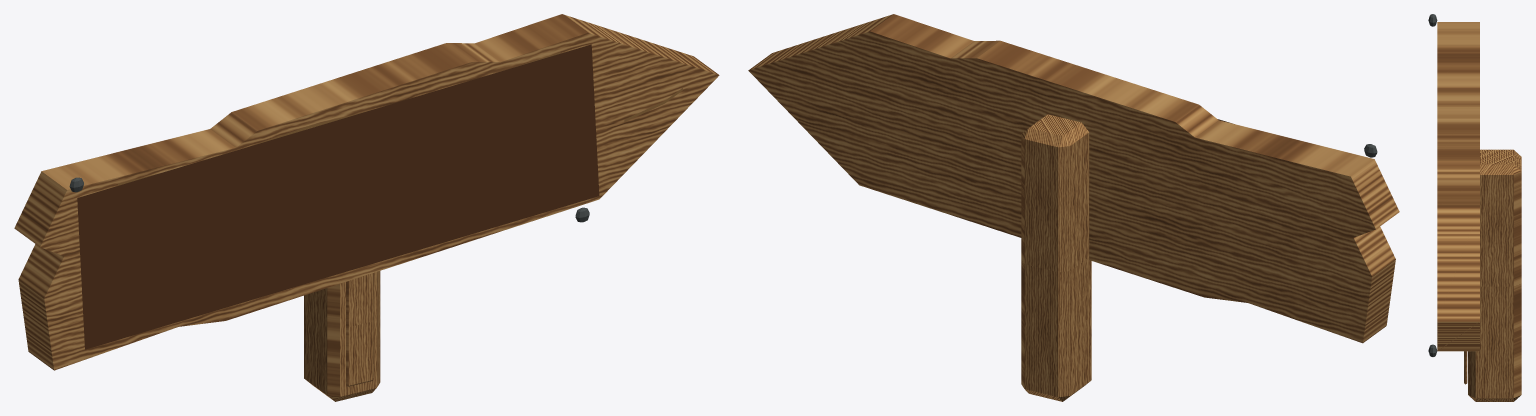
File: arrow-signpost.glb
3 renders of one model, left to right at view 1: azimuth 30°, elevation 25°; view 2: azimuth 150°, elevation 25°; view 3: azimuth 270°, elevation 25°, orthographic. The views are drawn at different scales.
Visible parts, largest first — view 1: Sign inscription, Solid oak arrow, Oak stake, Stake worn front; view 2: Solid oak arrow, Oak stake; view 3: Solid oak arrow, Oak stake, Stake worn front.
Boxes of the visible parts, x1,y1,x2,y2 form: Sign inscription: [77, 44, 599, 349]; Solid oak arrow: [14, 14, 719, 370]; Oak stake: [304, 271, 380, 401]; Stake worn front: [346, 273, 373, 386]; Solid oak arrow: [748, 14, 1399, 343]; Oak stake: [1021, 114, 1091, 401]; Solid oak arrow: [1437, 22, 1479, 351]; Oak stake: [1468, 149, 1521, 401]; Stake worn front: [1464, 351, 1467, 384].
Size of the model in its own units: 1.35 by 0.6267 by 0.1941.
Materials: 5 (2 with a texture image).
